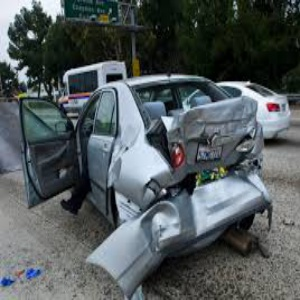bonnet: (160, 95, 257, 153)
